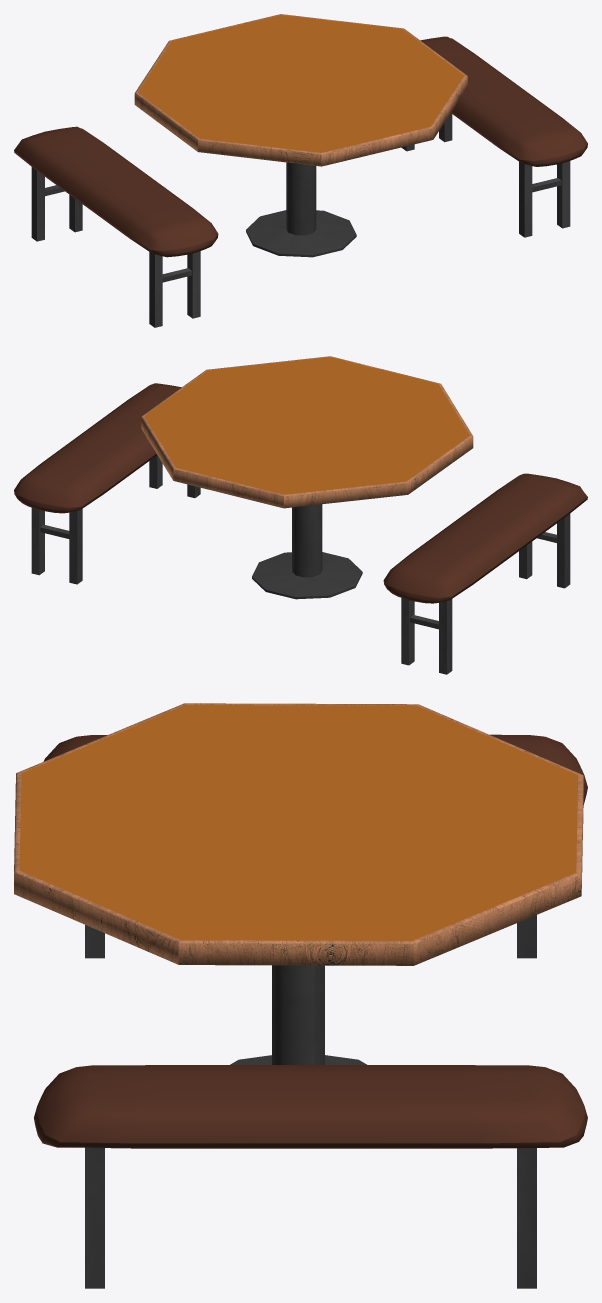
Rendered from Orange Table Octagon.fbx.
The picture shows the model from 3 angles, top to bottom: view 1: azimuth 30°, elevation 25°; view 2: azimuth 150°, elevation 25°; view 3: azimuth 270°, elevation 25°; orthographic projection. The views are drawn at different scales.
Parts seen in each view (by area): view 1: Baked.002, Baked.005, Baked.006; view 2: Baked.002, Baked.005, Baked.006; view 3: Baked.002, Baked.006, Baked.005.
Boxes of the visible parts, x1,y1,x2,y2 form: Baked.002: (134,14,467,257); Baked.005: (14,126,218,327); Baked.006: (401,36,587,237); Baked.002: (141,356,473,599); Baked.005: (383,473,587,674); Baked.006: (14,383,200,584); Baked.002: (14,703,583,1064); Baked.006: (34,1065,587,1288); Baked.005: (43,734,587,958).
Size of the model in its own units: 148 by 48.72 by 91.41.
